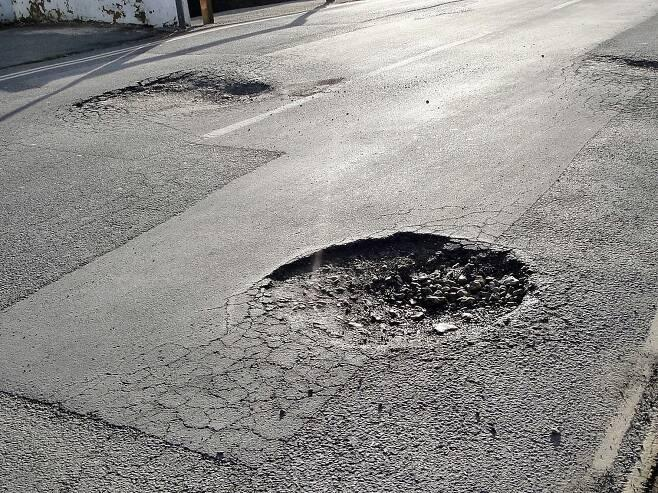pothole: (218, 195, 542, 360), (70, 65, 266, 123)
